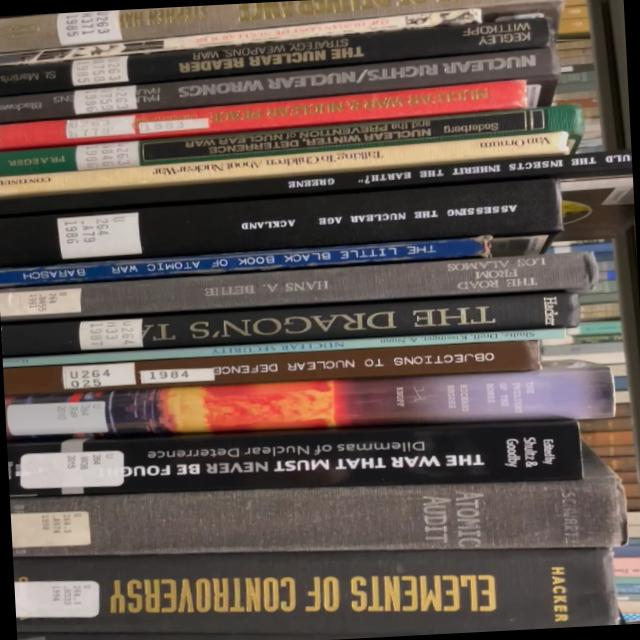book: (10, 446, 625, 564), (14, 547, 618, 638), (5, 365, 614, 449), (0, 179, 563, 267), (7, 419, 582, 503), (0, 15, 551, 97), (0, 47, 559, 124), (0, 104, 585, 176), (0, 252, 599, 322), (0, 150, 633, 216), (0, 131, 570, 199), (2, 290, 578, 357), (0, 79, 528, 152), (0, 0, 565, 57), (2, 340, 541, 395), (0, 7, 483, 67), (0, 236, 493, 288), (3, 327, 566, 367)
